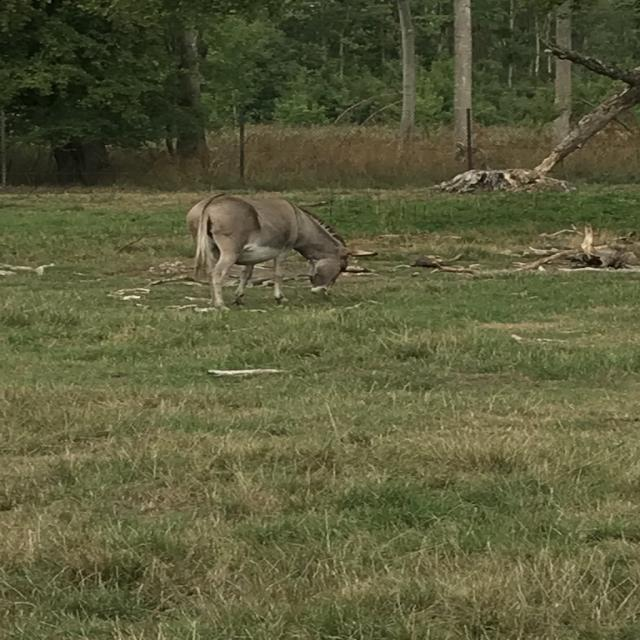Donkey: (183, 190, 379, 310)
